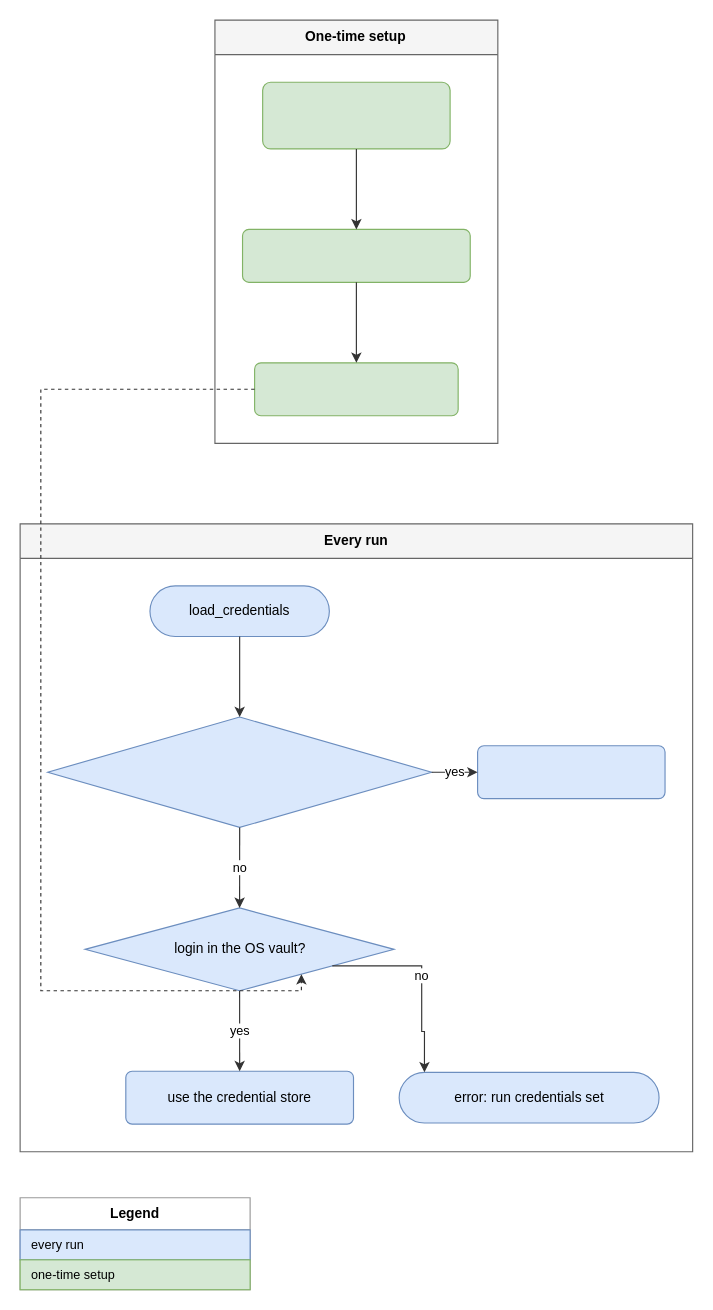
The diagram is 713 pixels wide and 1310 high, and some of its shapes have lost their labels. The box of each missing label's shape, as (x1, y1, x2, y2) in pixels:
credentials set typed in a terminal: (262, 81, 450, 149)
store in the OS vault: (253, 362, 458, 416)
use the environment: (476, 745, 665, 799)
verify with a real login: (241, 228, 470, 282)
VIDEOTAG_ variables or their _FILE variants set?: (47, 716, 432, 827)
